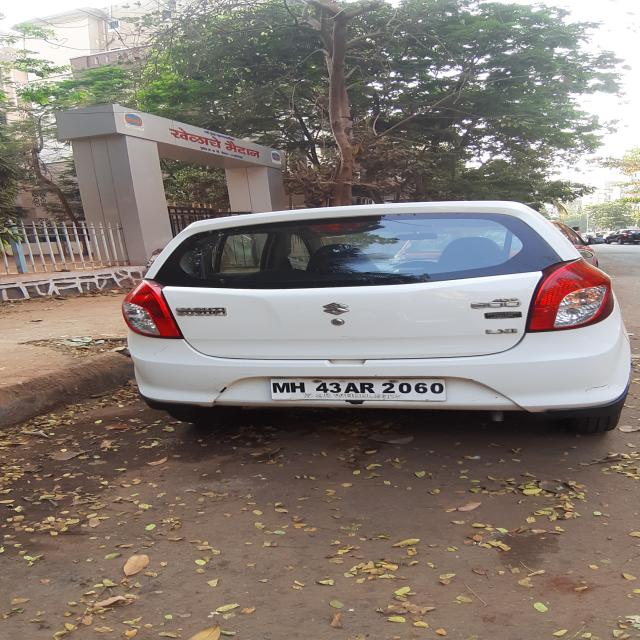Number-Plate: (274, 381, 450, 399)
